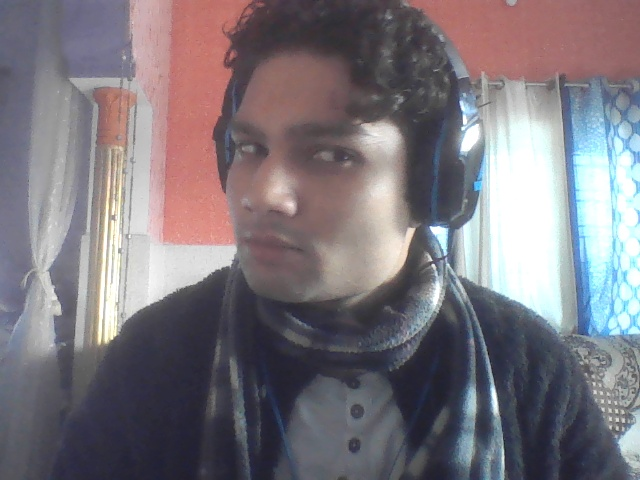real: (199, 0, 453, 360)
